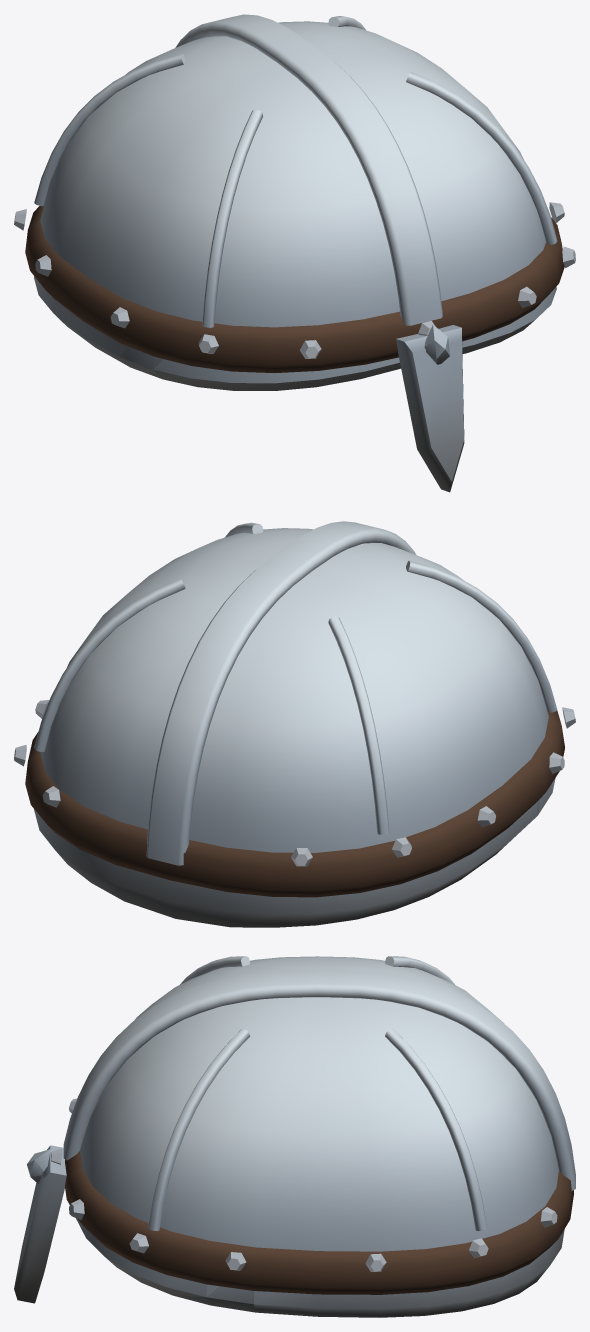
File: helmet_medium.glb
3 renders of one model, top to bottom at view 1: azimuth 30°, elevation 25°; view 2: azimuth 150°, elevation 25°; view 3: azimuth 270°, elevation 25°, orthographic. The views are drawn at different scales.
Visible parts, largest first — view 1: Item; view 2: Item; view 3: Item.
Part boxes in pixels (<box>): Item: <box>14,14,575,492</box>; Item: <box>14,521,575,927</box>; Item: <box>14,956,575,1317</box>.
Size of the model in its own units: 1.29 by 0.9039 by 1.41.
3 materials, 3 textured.
